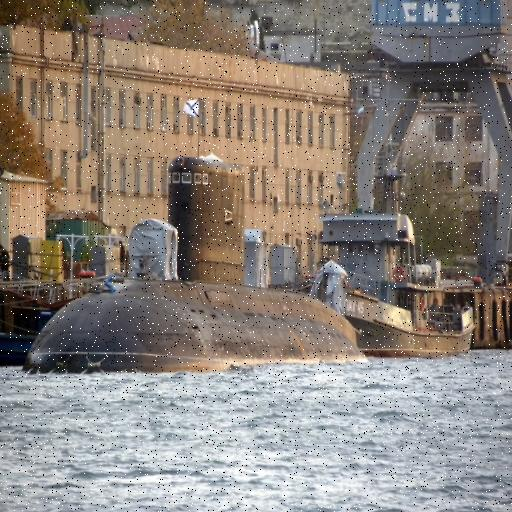submarine: (31, 161, 365, 371)
